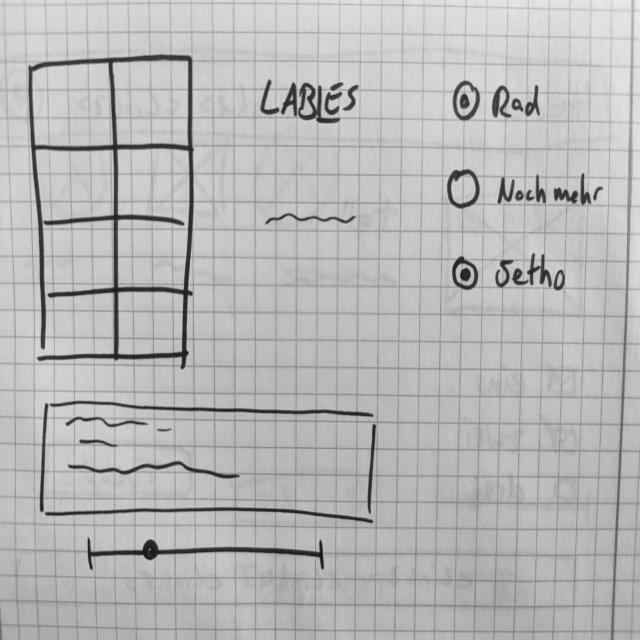label: (259, 77, 365, 127)
radio: (447, 165, 607, 213), (451, 251, 571, 297), (450, 80, 546, 126)
slider: (86, 538, 328, 573)
table: (30, 52, 197, 366)
text: (263, 207, 362, 231)
textbox: (40, 399, 382, 526)
